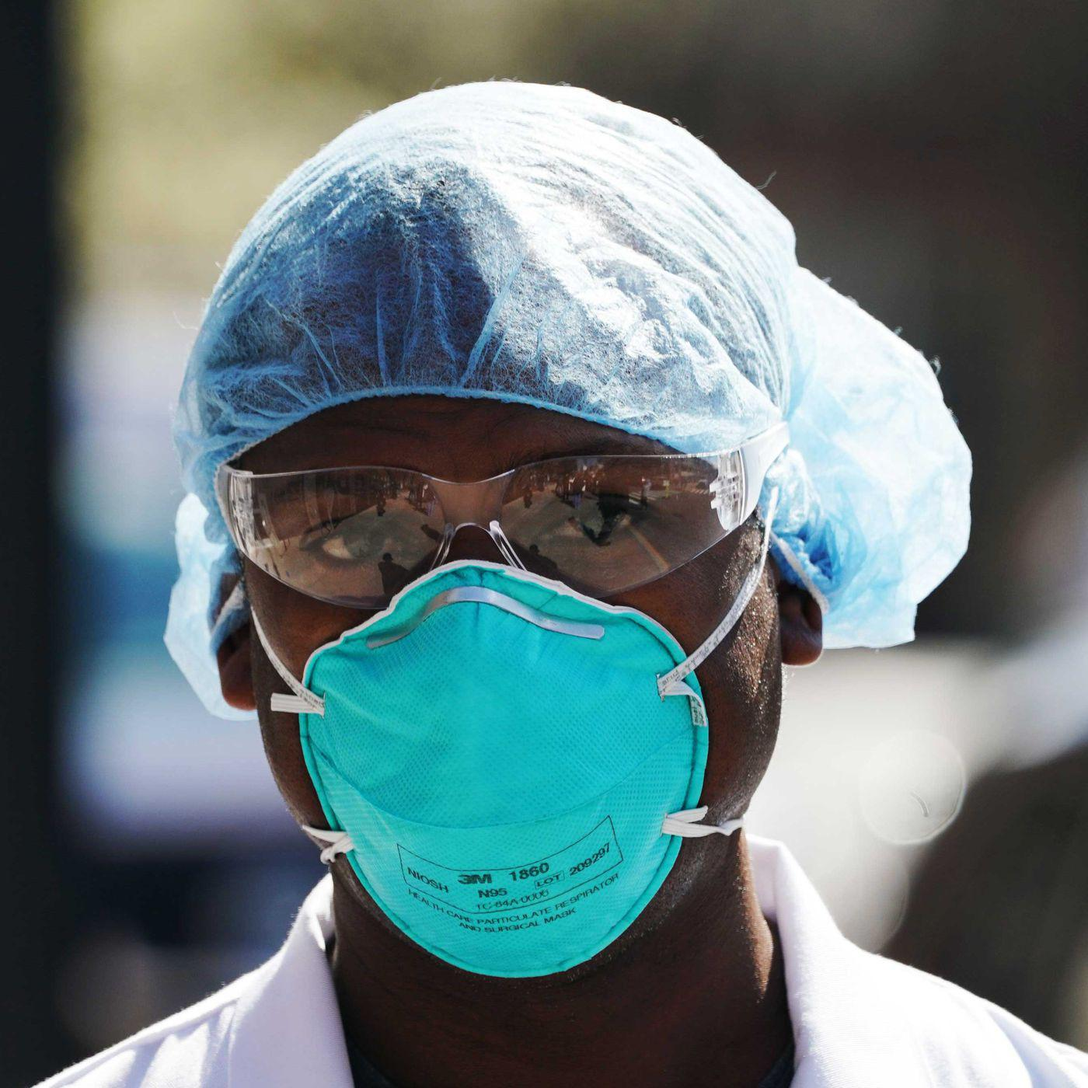OK: (230, 431, 774, 924)
